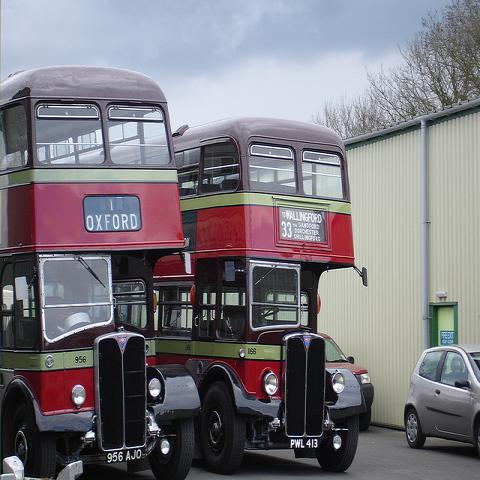bus: (2, 69, 203, 475), (154, 117, 374, 475)
car: (404, 342, 479, 453), (316, 332, 372, 423)
